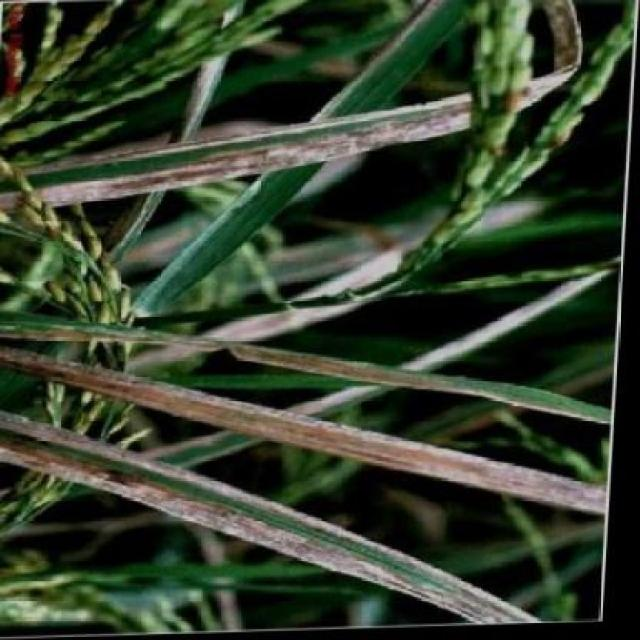Brown_Spot: (31, 336, 567, 592), (27, 65, 571, 209)
